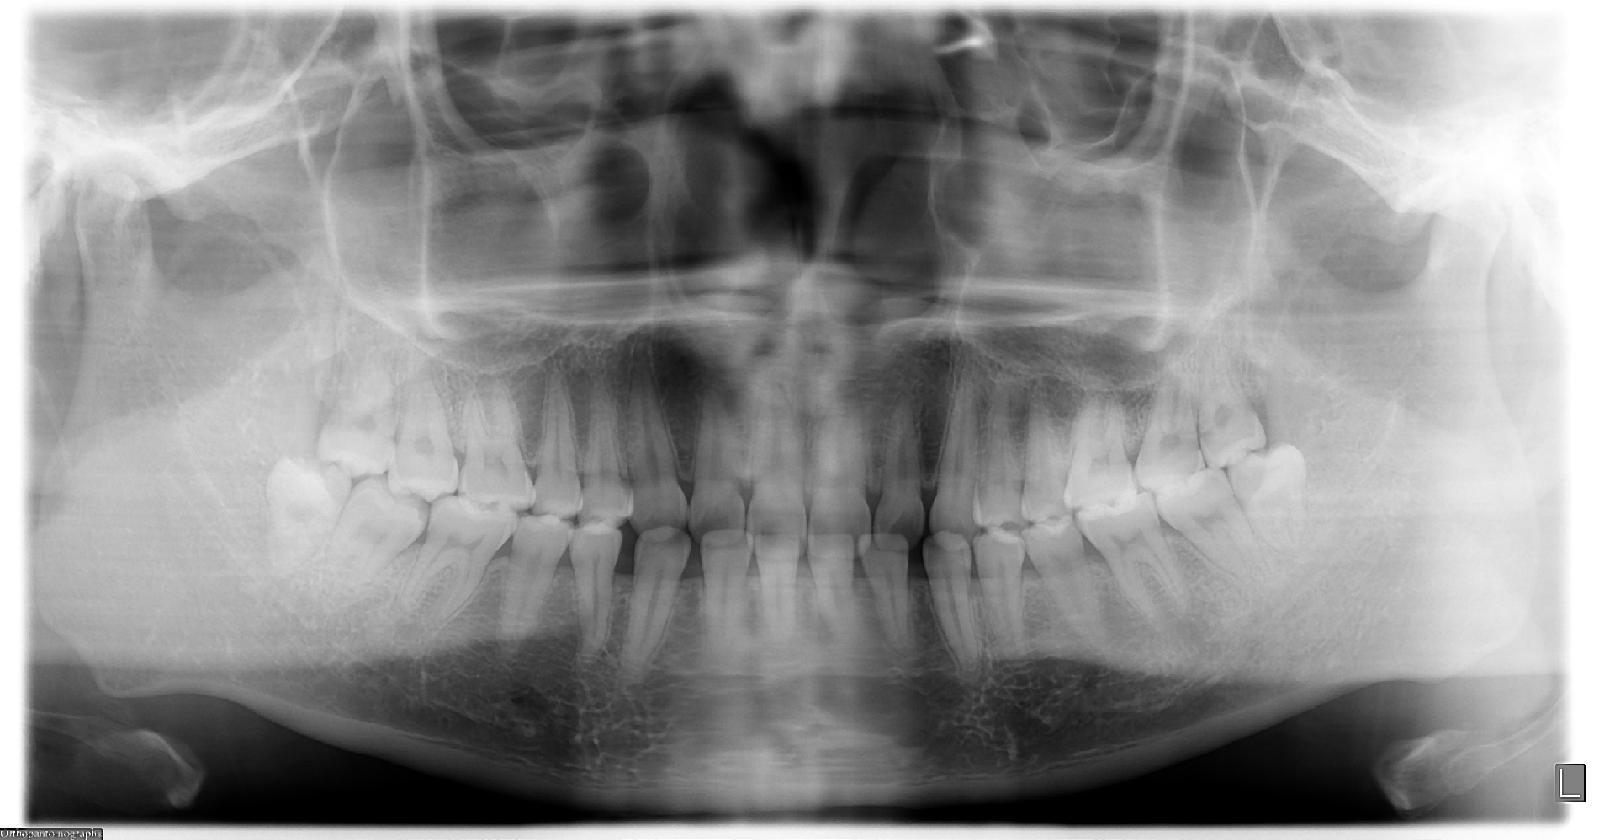Erupted: (255, 452, 347, 580), (1232, 445, 1321, 563)
